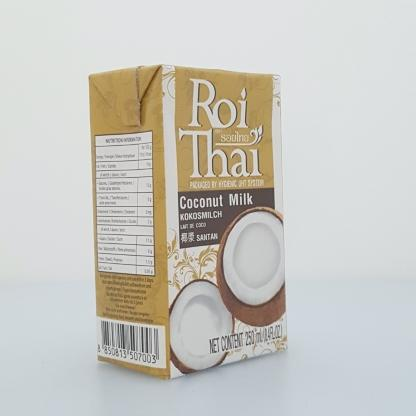-------------: (88, 64, 287, 380)
